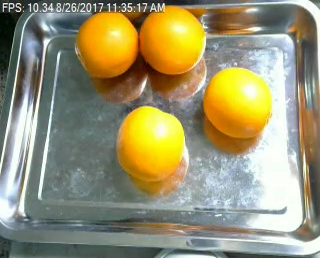Orange: (115, 104, 186, 182), (204, 66, 273, 138), (139, 6, 207, 76), (74, 12, 139, 78)
